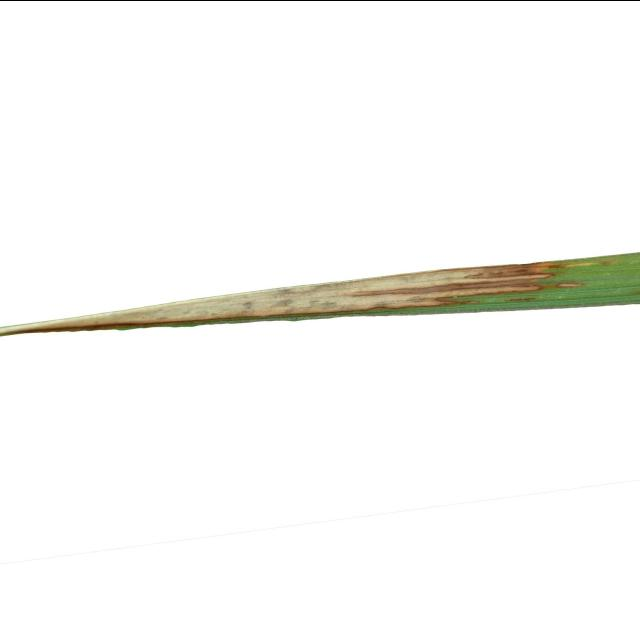Leaf scald: (0, 167, 640, 446)
